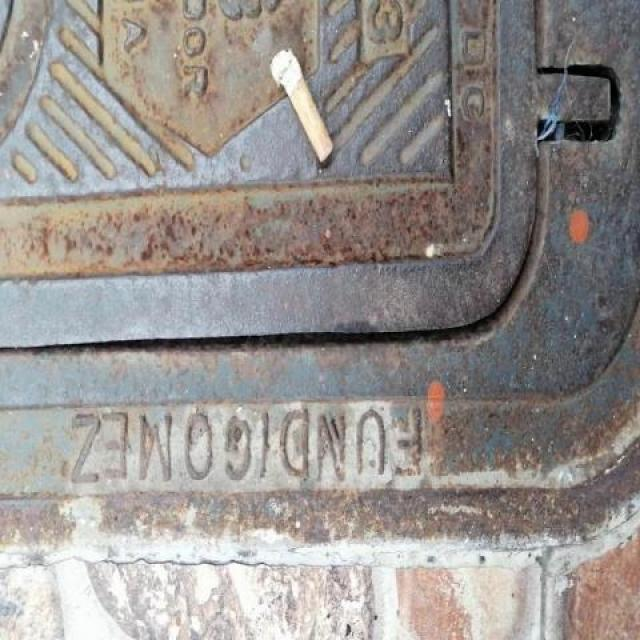non-organic waste: (265, 45, 336, 167)
